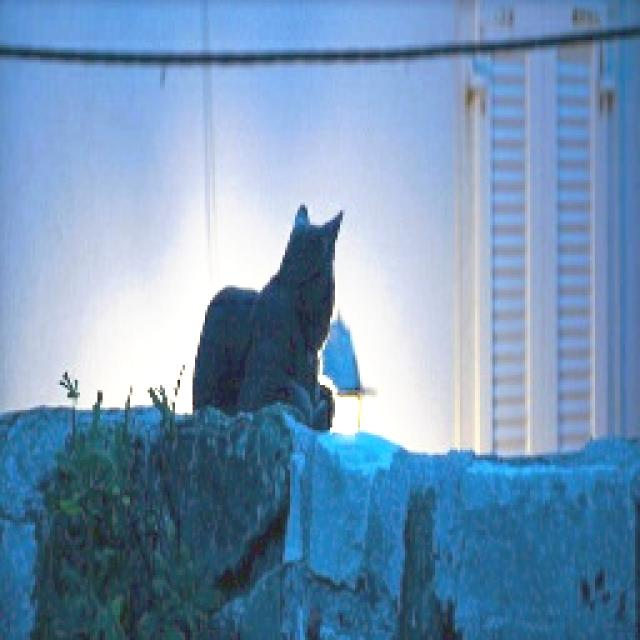cat: (152, 178, 386, 452)
